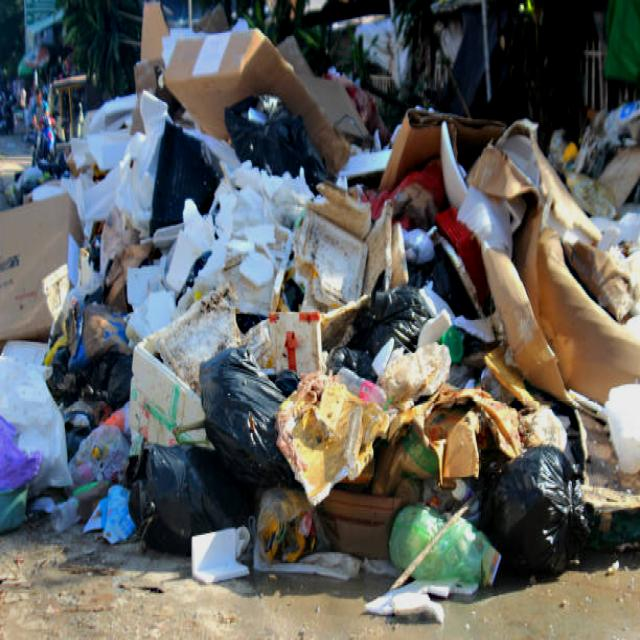garbage: (2, 0, 640, 614)
